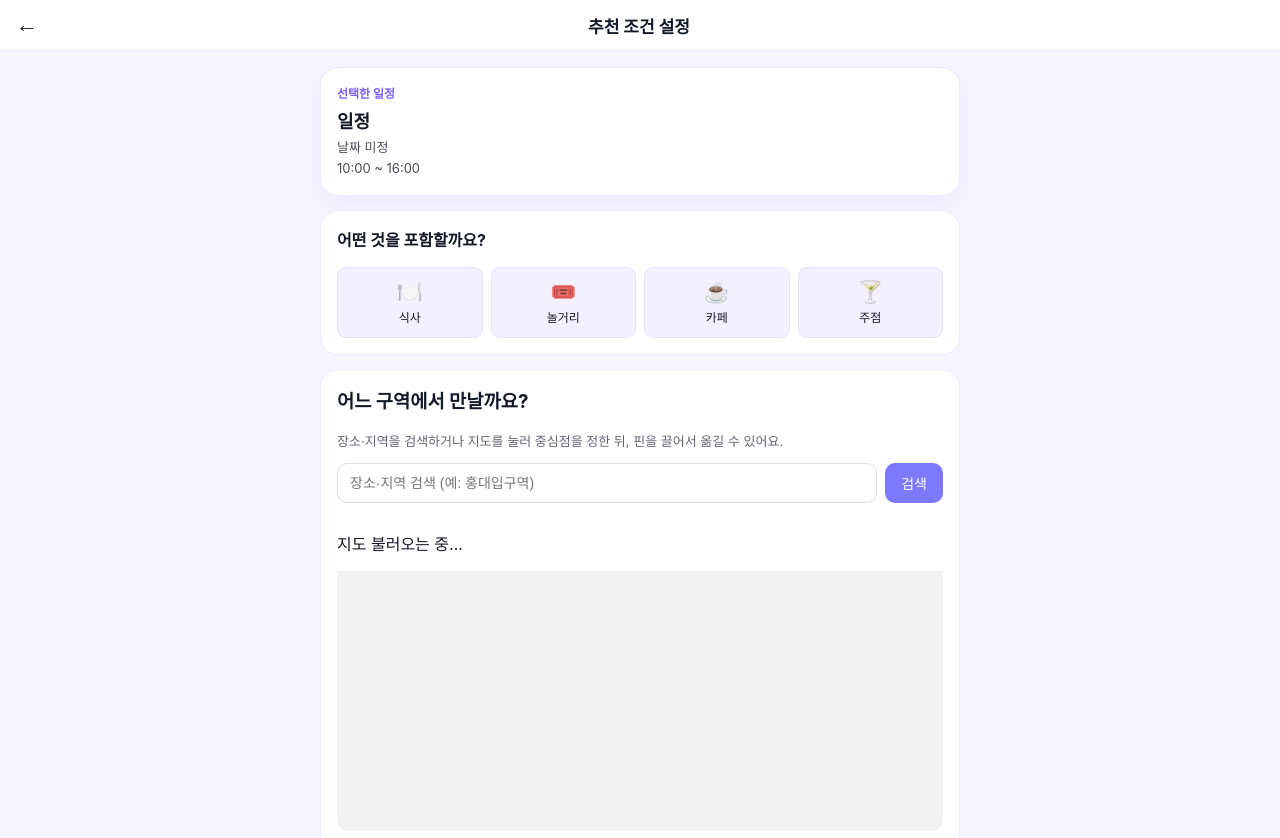
it: 주점 2차 선택을 저장·전달하고 낮 일정은 요청 전에 안내
The width and height of the screenshot is (1280, 838).
Click the button "🍸 주점". click: (870,302)
box: x1=798 y1=267 x2=943 y2=338
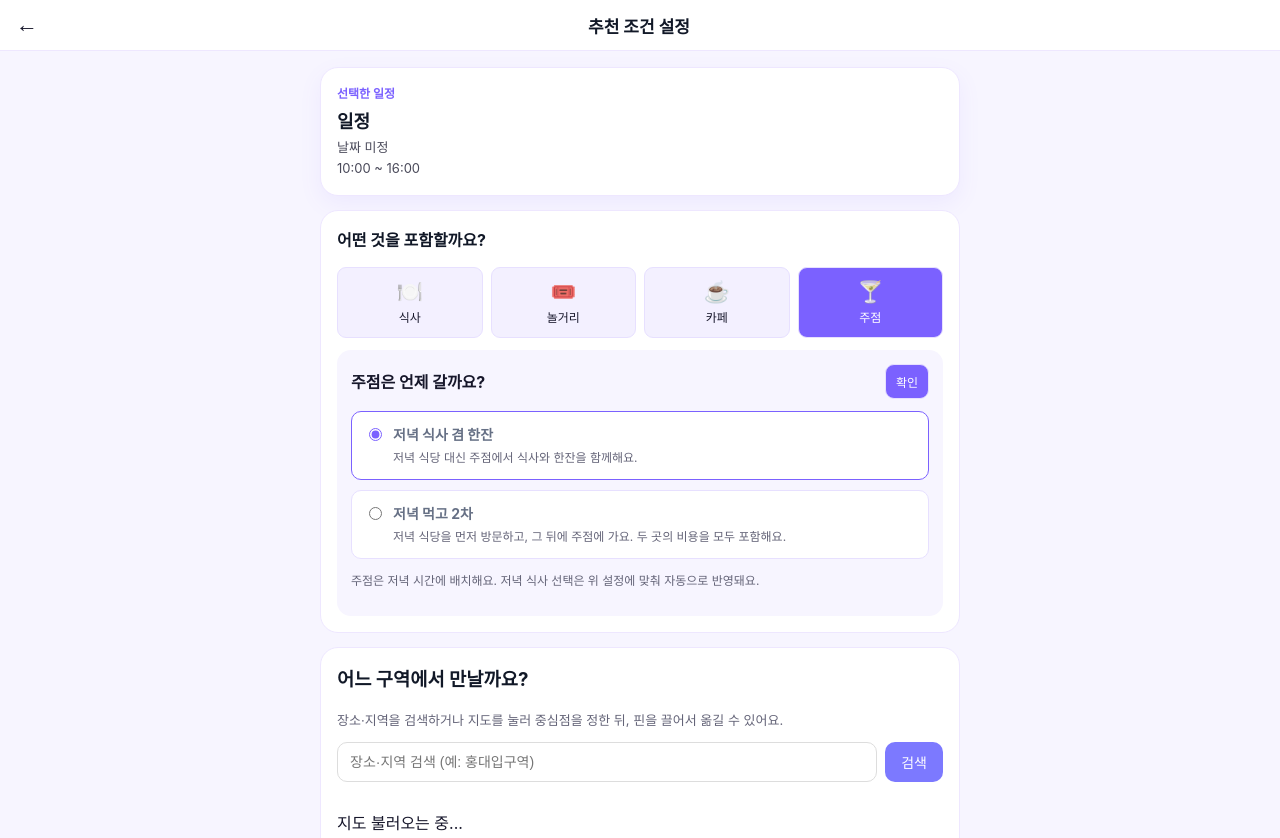
Click the radio button labelled "저녁 먹고 2차 저녁 식당을 먼저 방문하고, 그 뒤에 주점에 가요. 두 곳의 비용을 모두 포함해요.". click: (376,513)
box: x1=369 y1=507 x2=382 y2=520
(page scrolled)
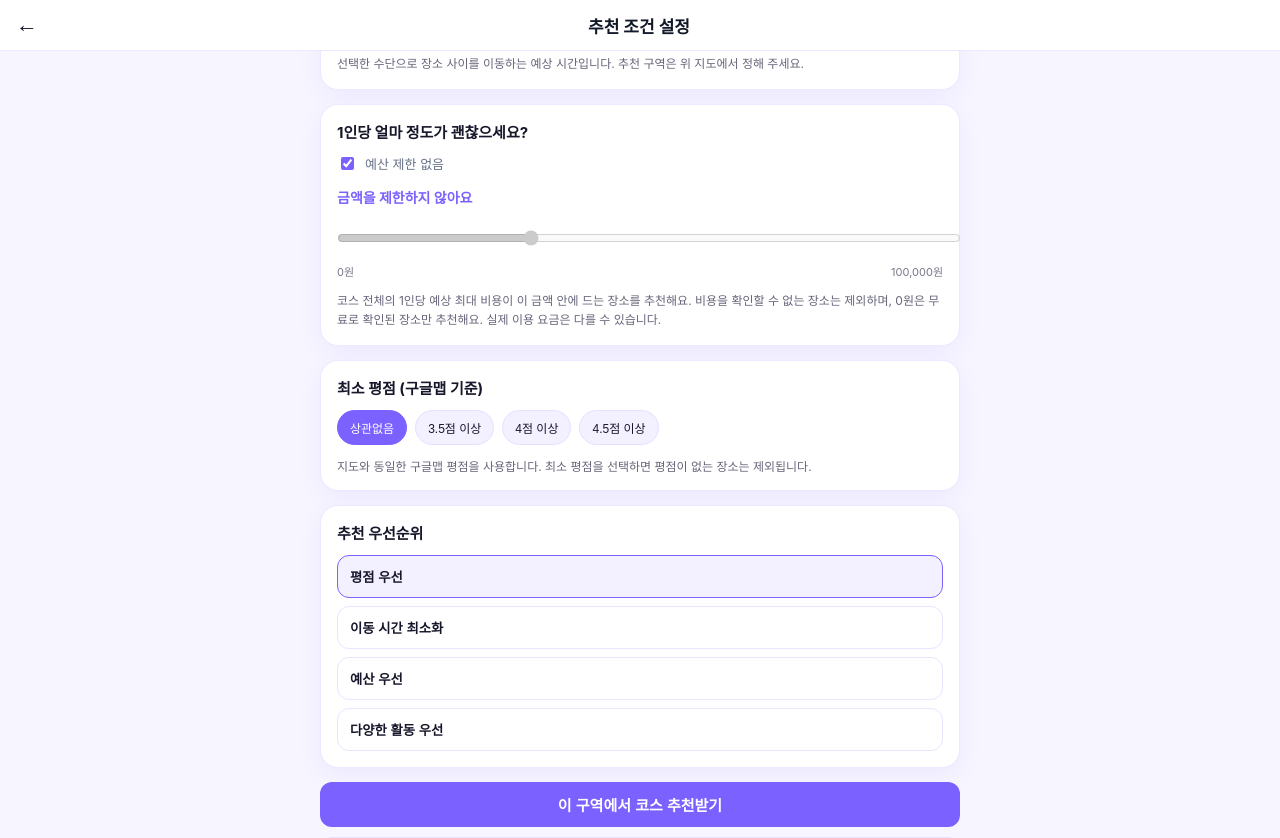
Click the button "이 구역에서 코스 추천받기". click: (640,805)
box: x1=320 y1=782 x2=960 y2=827
(page scrolled)
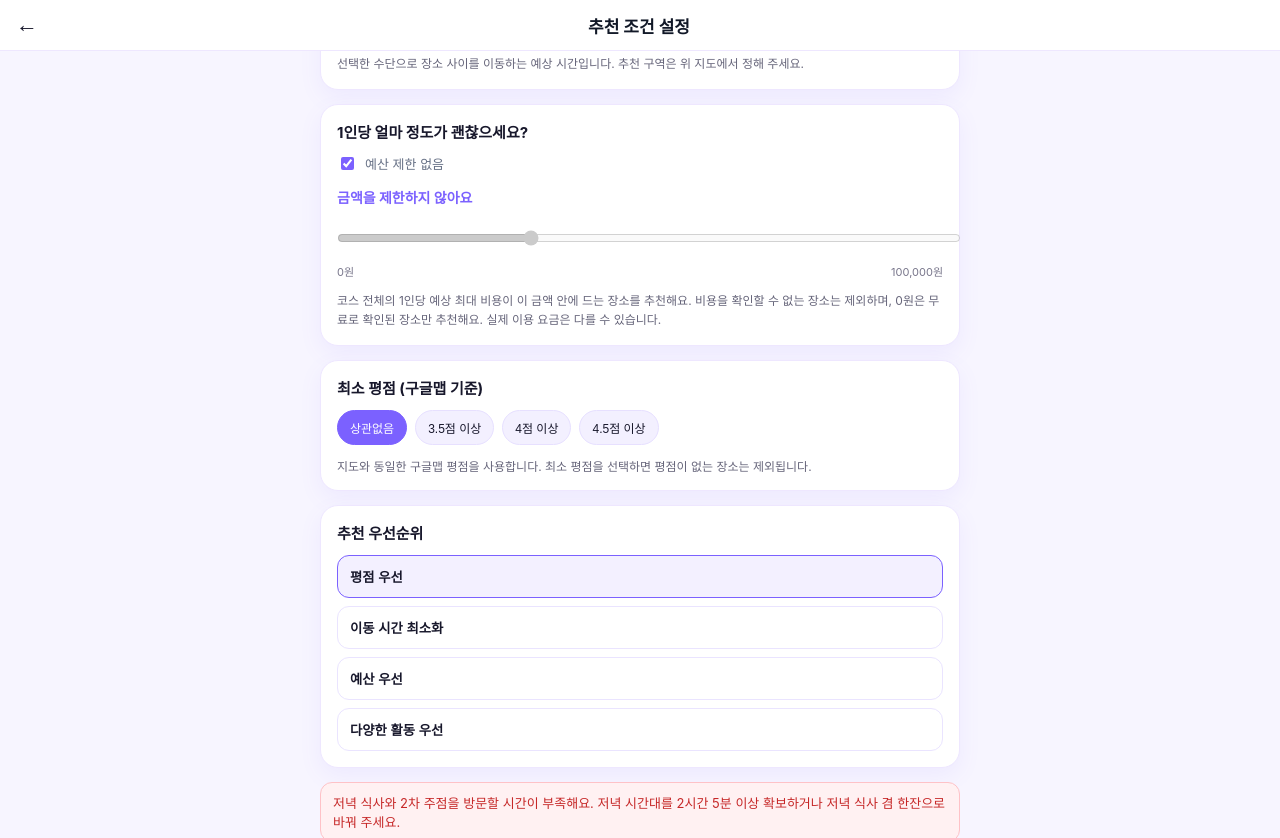
Now the message shows "저녁 식사와 2차 주점을 방문할 시간이 부족", box x1=333 y1=795 x2=945 y2=830
